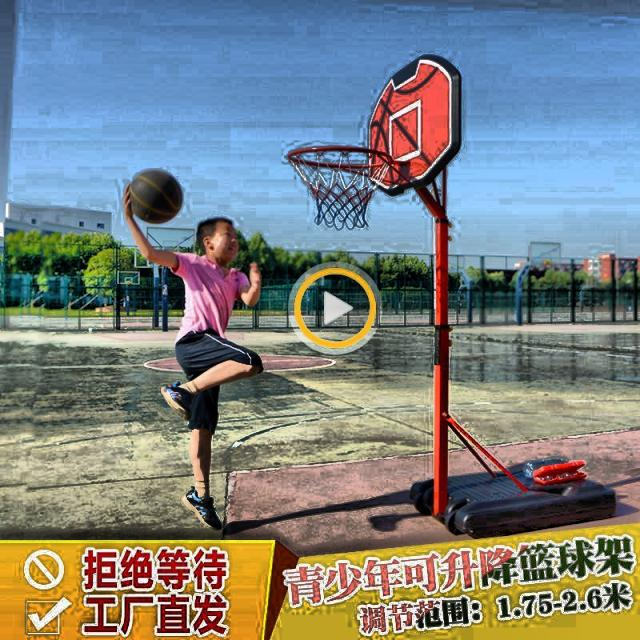rim: (283, 145, 396, 229)
